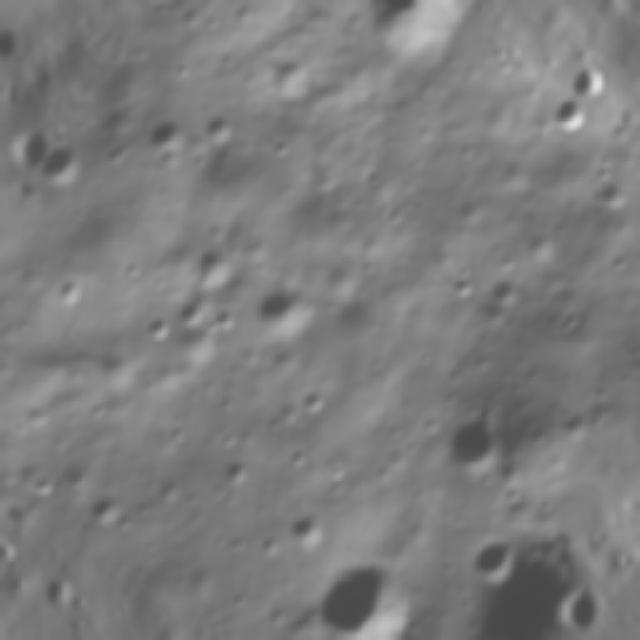crater: (293, 534, 439, 640), (342, 0, 470, 88), (430, 397, 522, 489), (241, 272, 322, 352), (456, 520, 532, 598), (32, 134, 94, 200), (275, 499, 334, 559), (539, 88, 598, 143), (78, 479, 134, 536), (480, 266, 531, 317), (138, 110, 188, 161), (290, 377, 339, 426), (1, 489, 53, 531), (196, 104, 242, 150), (441, 268, 485, 314), (217, 449, 258, 494), (137, 0, 214, 18), (5, 190, 27, 227), (0, 338, 6, 444)
